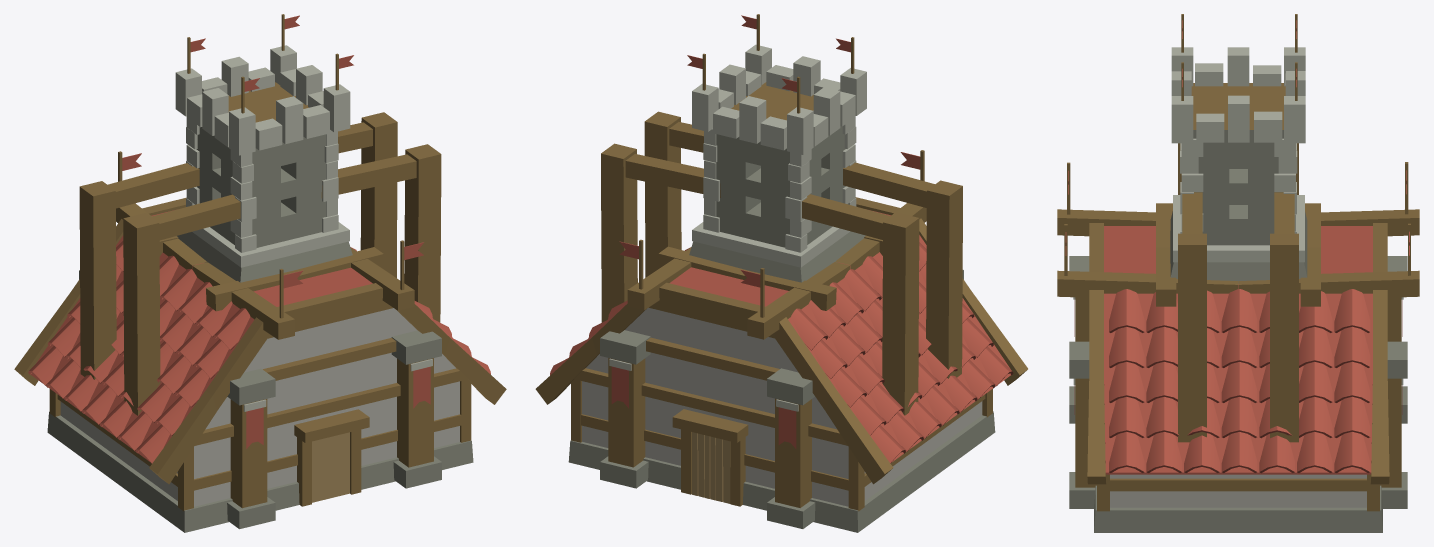
File: TowerHouse_SecondAge.glb
3 renders of one model, left to right at view 1: azimuth 30°, elevation 25°; view 2: azimuth 150°, elevation 25°; view 3: azimuth 270°, elevation 25°, orthographic. The views are drawn at different scales.
Parts seen in each view (by area): view 1: TowerHouse_SecondAge; view 2: TowerHouse_SecondAge; view 3: TowerHouse_SecondAge.
Part boxes in pixels (left/top/right/bottom): TowerHouse_SecondAge: left=14, top=14, right=506, bottom=532; TowerHouse_SecondAge: left=535, top=14, right=1027, bottom=532; TowerHouse_SecondAge: left=1057, top=14, right=1419, bottom=532.
Size of the model in its own units: 1.37 by 1.5 by 1.17.
1 material, 1 textured.
